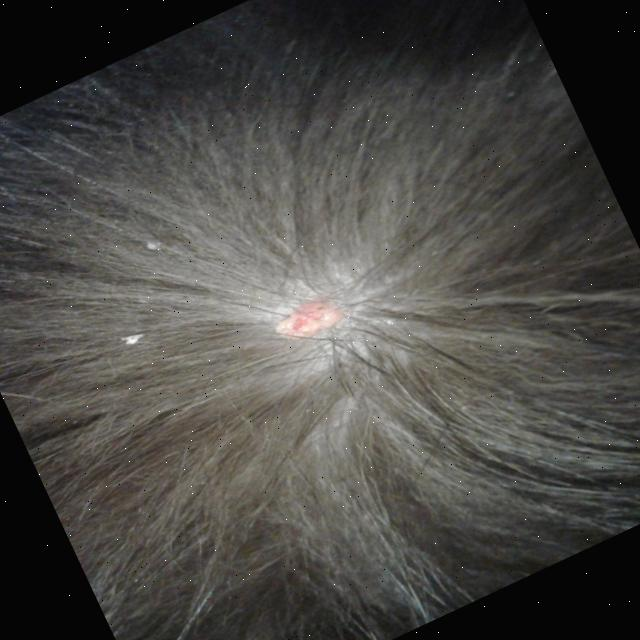cat-lump-and-bump: (263, 283, 355, 357)
